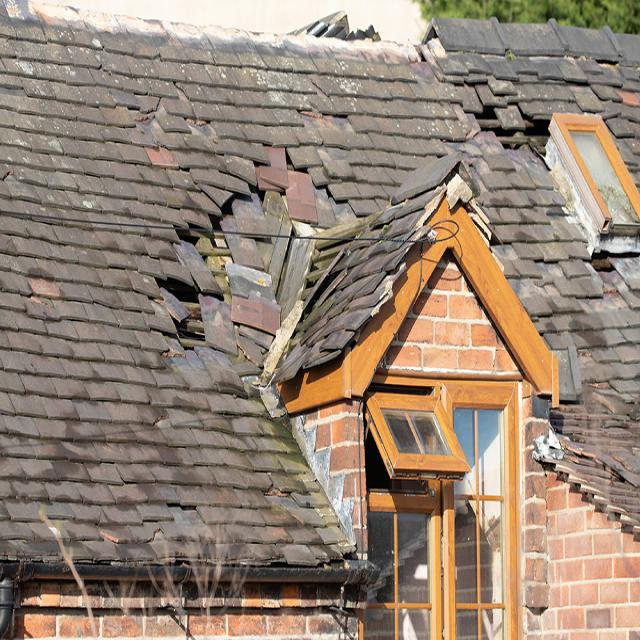damaged_roof: (153, 130, 344, 366), (455, 67, 550, 155)
